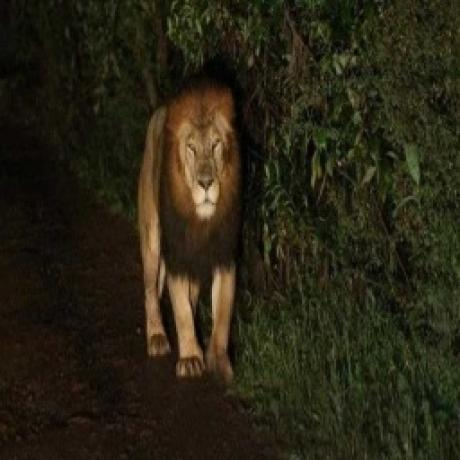Lion: (136, 67, 250, 383)
